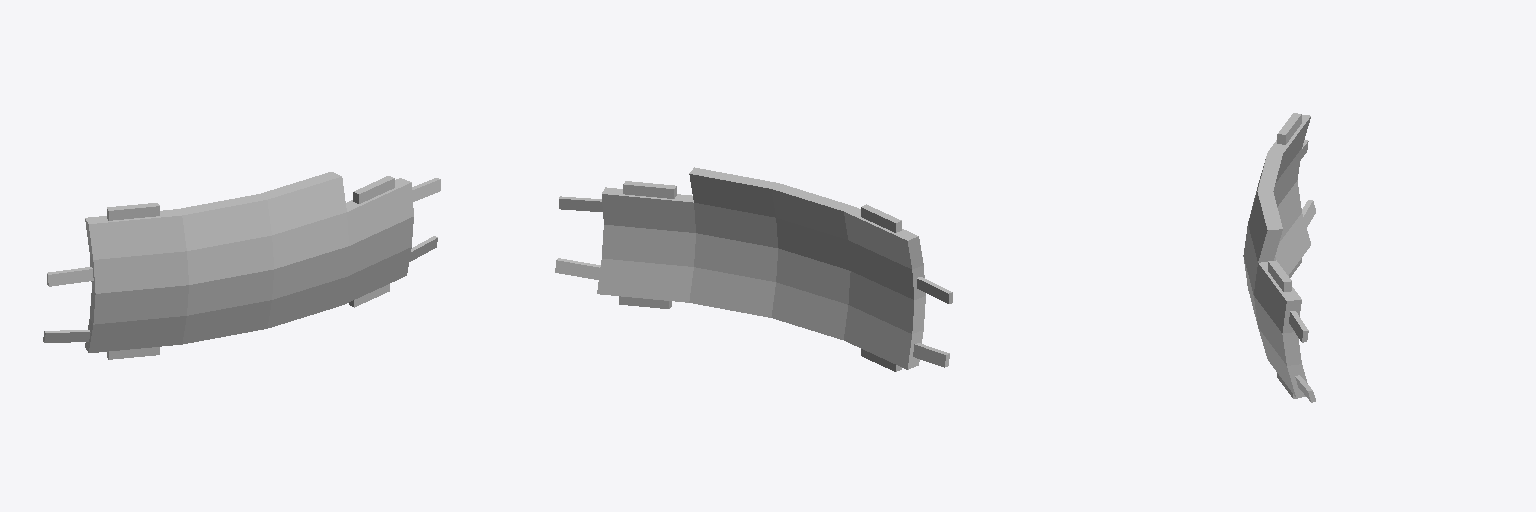
File: spaceHull.obj
3 views of the same model, side by side, from view 1: azimuth 30°, elevation 25°; view 2: azimuth 150°, elevation 25°; view 3: azimuth 270°, elevation 25° (orthographic).
Visible parts, largest first — view 1: pCube1; view 2: pCube1; view 3: pCube1.
Boxes of the visible parts, x1,y1,x2,y2 form: pCube1: [43, 172, 440, 359]; pCube1: [555, 167, 952, 371]; pCube1: [1243, 113, 1315, 402].
Size of the model in its own units: 7.78 by 2.82 by 1.26.